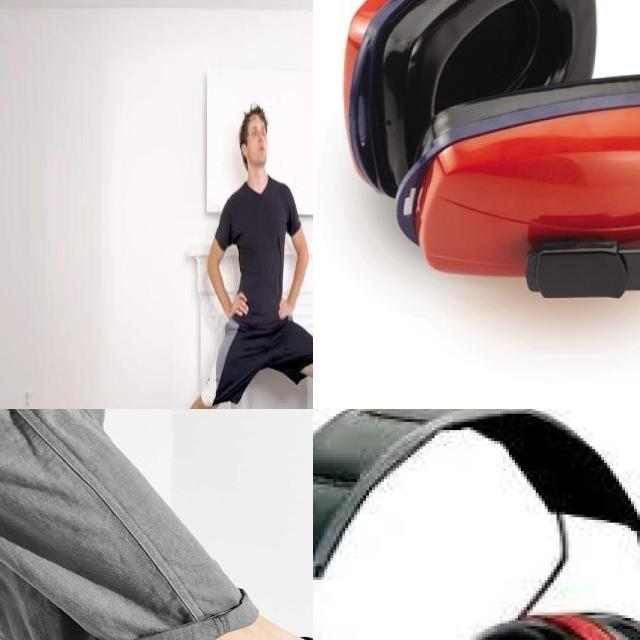Ear-protection: (313, 421, 640, 640), (334, 0, 604, 201), (388, 67, 640, 281)
No_Ear-Protection: (232, 138, 251, 160)
face_nomask: (251, 139, 271, 162)
hand_noglove: (218, 283, 255, 326), (272, 290, 296, 324)
person: (146, 101, 313, 409)
